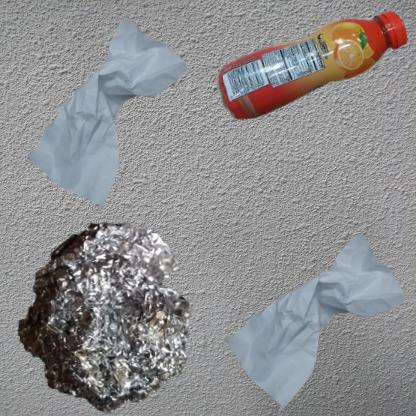aluminio: (10, 213, 200, 416)
botella: (213, 10, 416, 125)
papel: (10, 10, 208, 226), (213, 213, 416, 416)
